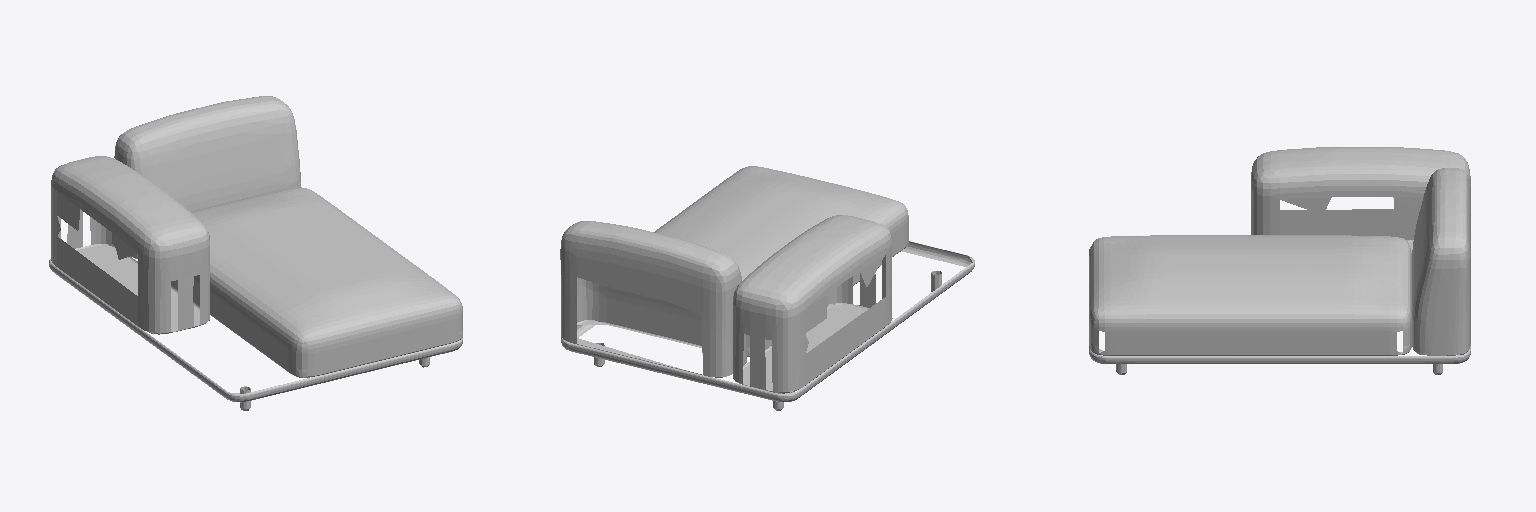
Rendered from Sillon test.obj.
3 views of the same model, side by side, from view 1: azimuth 30°, elevation 25°; view 2: azimuth 150°, elevation 25°; view 3: azimuth 270°, elevation 25° (orthographic).
Bounding box in the file's own units: 125 × 75.5 × 175.